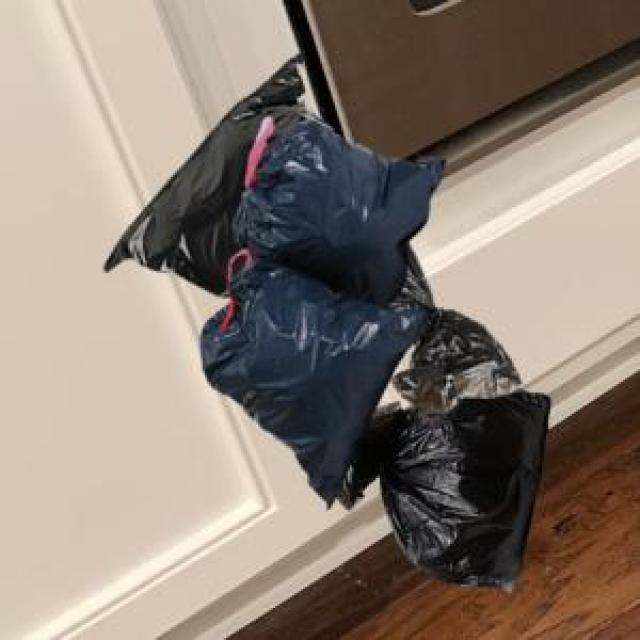waste: (105, 58, 549, 582)
